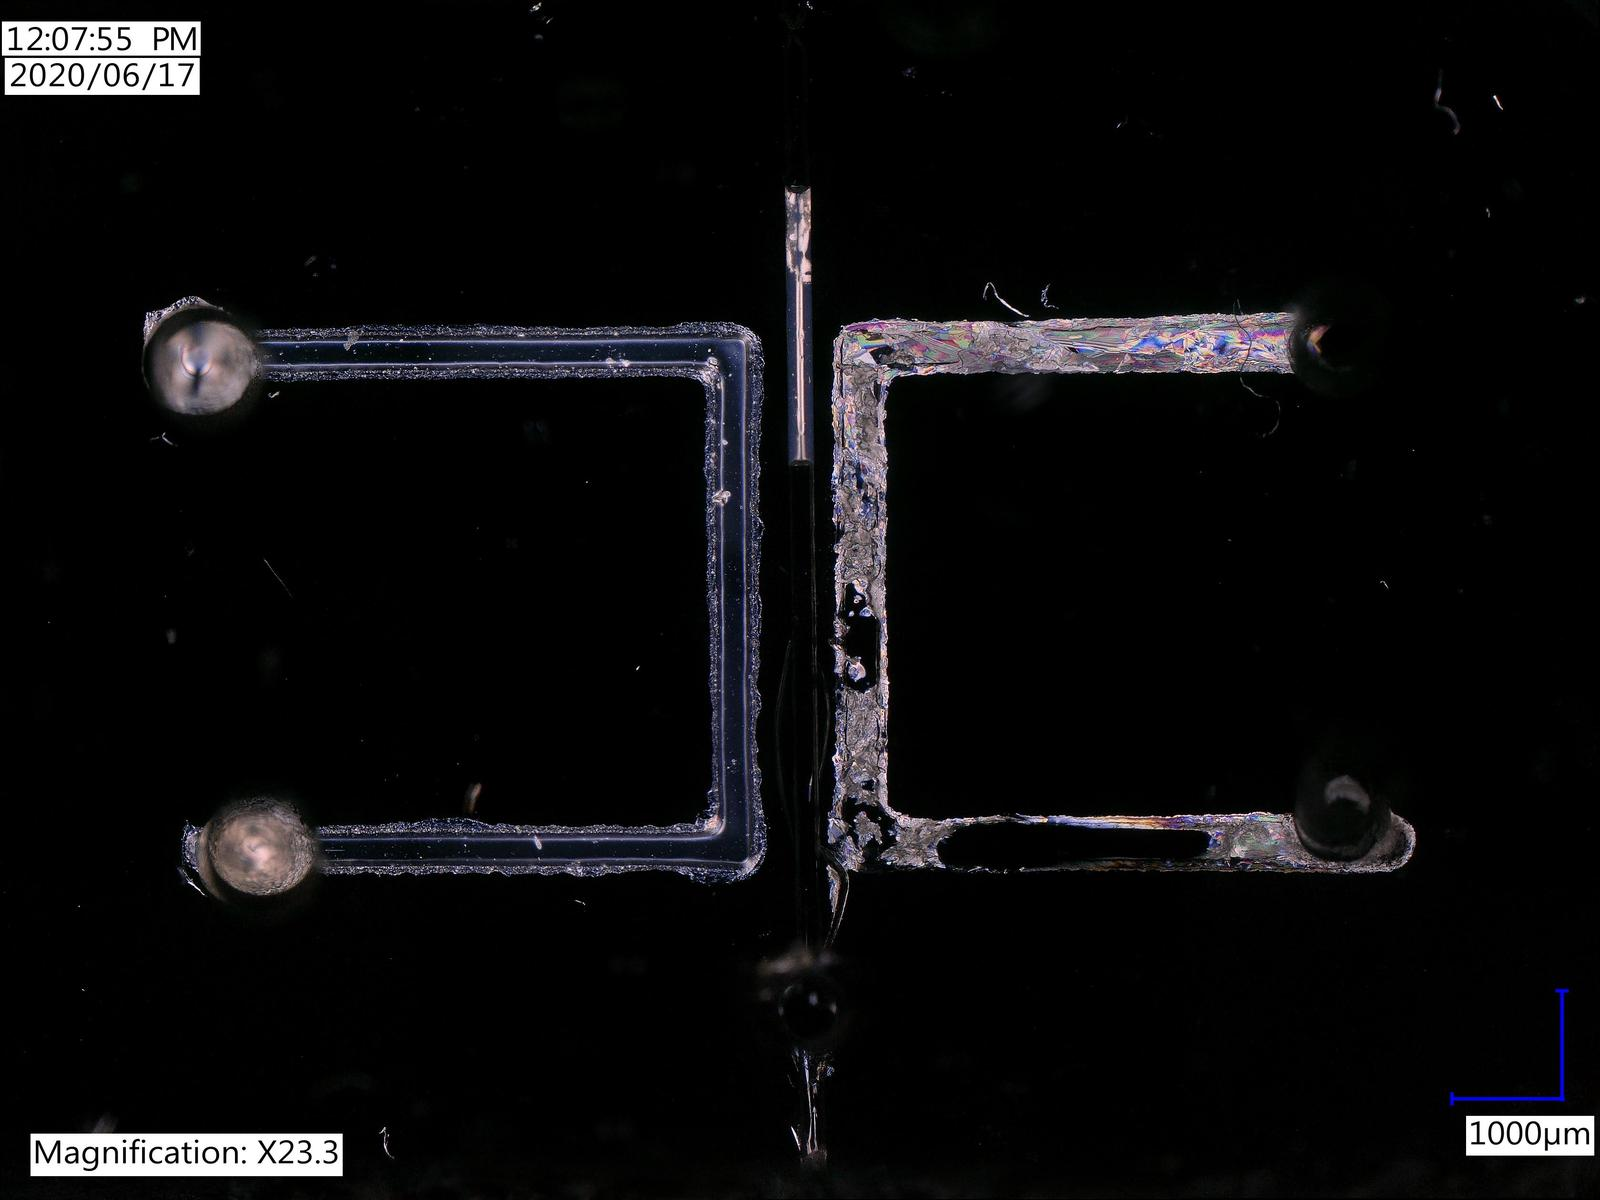sediment: (837, 686, 887, 804), (833, 487, 882, 589), (833, 362, 884, 456), (888, 821, 946, 866), (1201, 821, 1270, 858)
